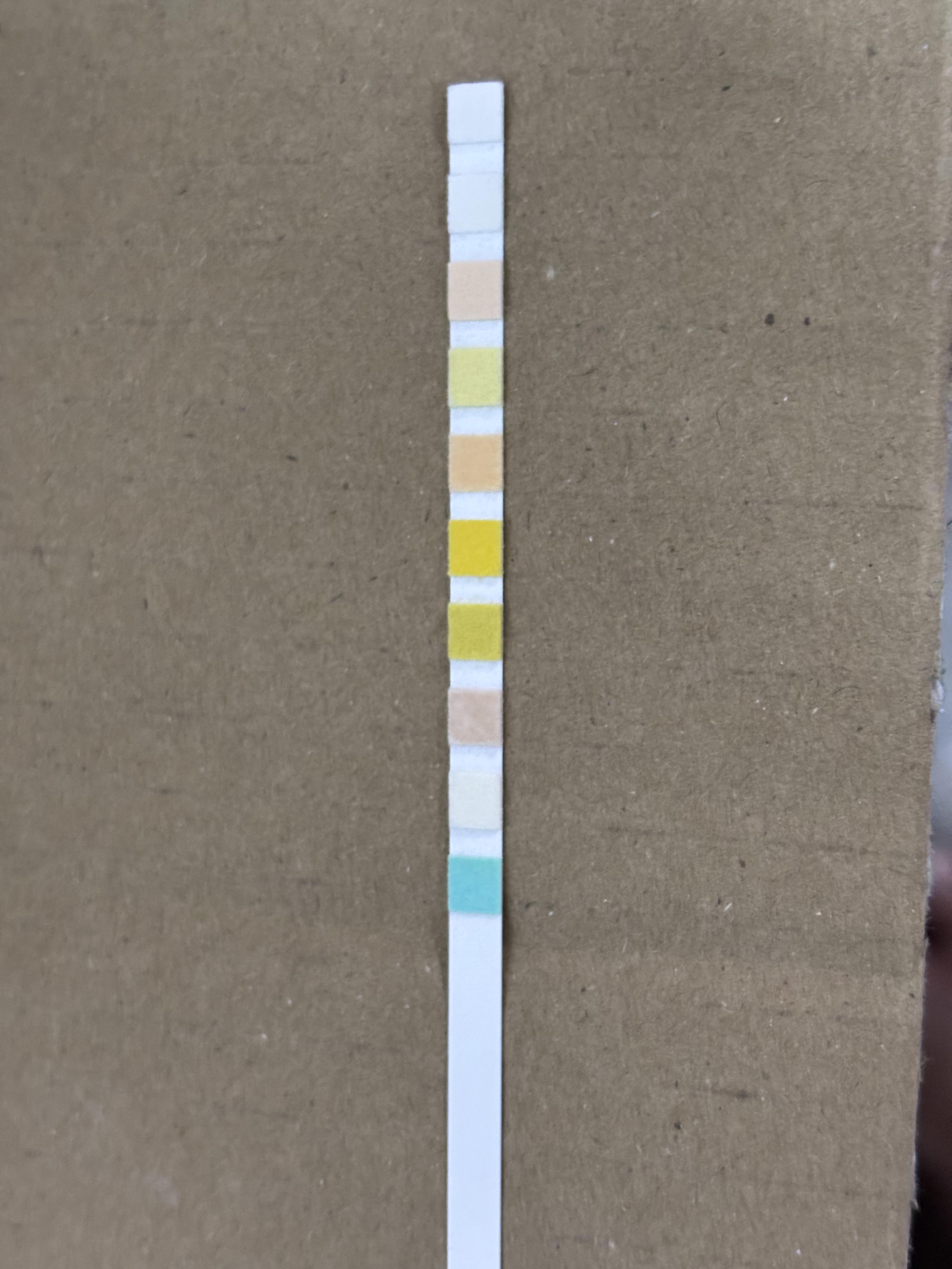Bilirubin: (451, 779, 500, 831)
Blood: (451, 523, 500, 574)
Glucose: (451, 860, 501, 912)
Ketone: (452, 693, 499, 742)
Leukocytes: (450, 88, 500, 141)
Nitrite: (449, 177, 501, 229)
Protein: (451, 351, 501, 406)
SpGravity: (452, 608, 502, 659)
Urobilinogen: (451, 268, 501, 316)
pH: (451, 437, 500, 490)
strip: (449, 84, 503, 1225)
